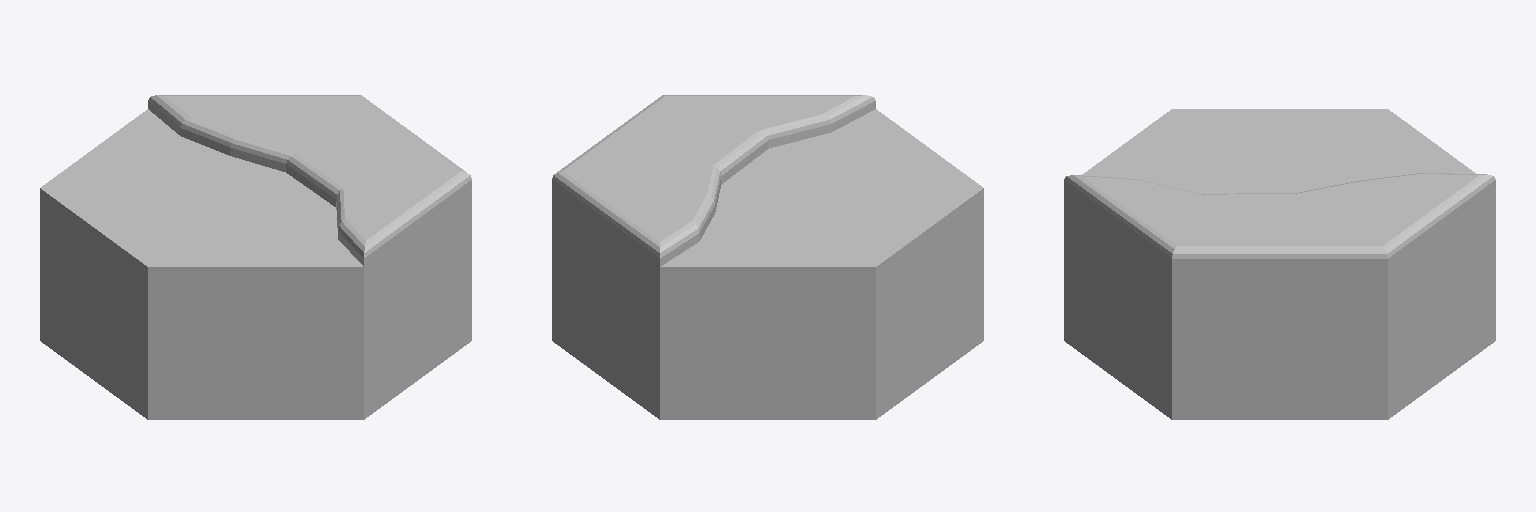
Rendered from hex_forest_waterC.obj.
The picture shows the model from 3 angles: view 1: azimuth 30°, elevation 25°; view 2: azimuth 150°, elevation 25°; view 3: azimuth 270°, elevation 25°; orthographic projection.
Visible parts, largest first — view 1: hex_forest_waterC_Cylinder.501; view 2: hex_forest_waterC_Cylinder.501; view 3: hex_forest_waterC_Cylinder.501.
Boxes of the visible parts, x1=… form: hex_forest_waterC_Cylinder.501: x1=40, y1=95, x2=471, y2=419; hex_forest_waterC_Cylinder.501: x1=552, y1=95, x2=983, y2=419; hex_forest_waterC_Cylinder.501: x1=1064, y1=109, x2=1495, y2=419.
Bounding box in the file's own units: 2 × 1 × 2.31.